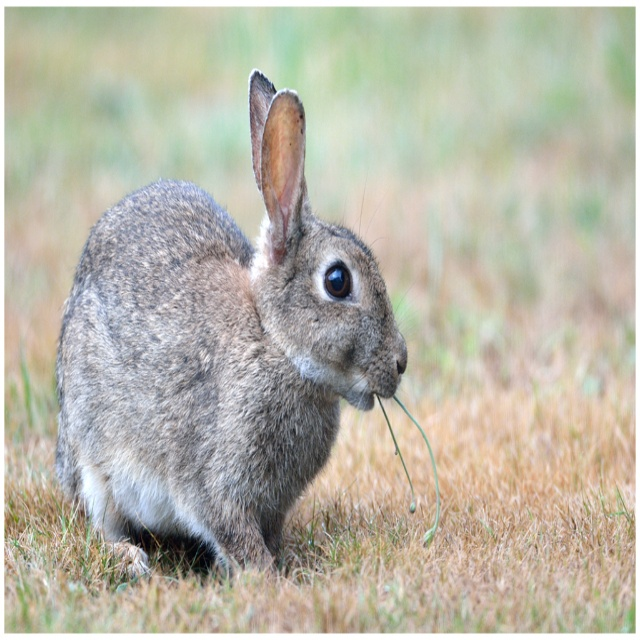Rabbit: (52, 69, 424, 581)
